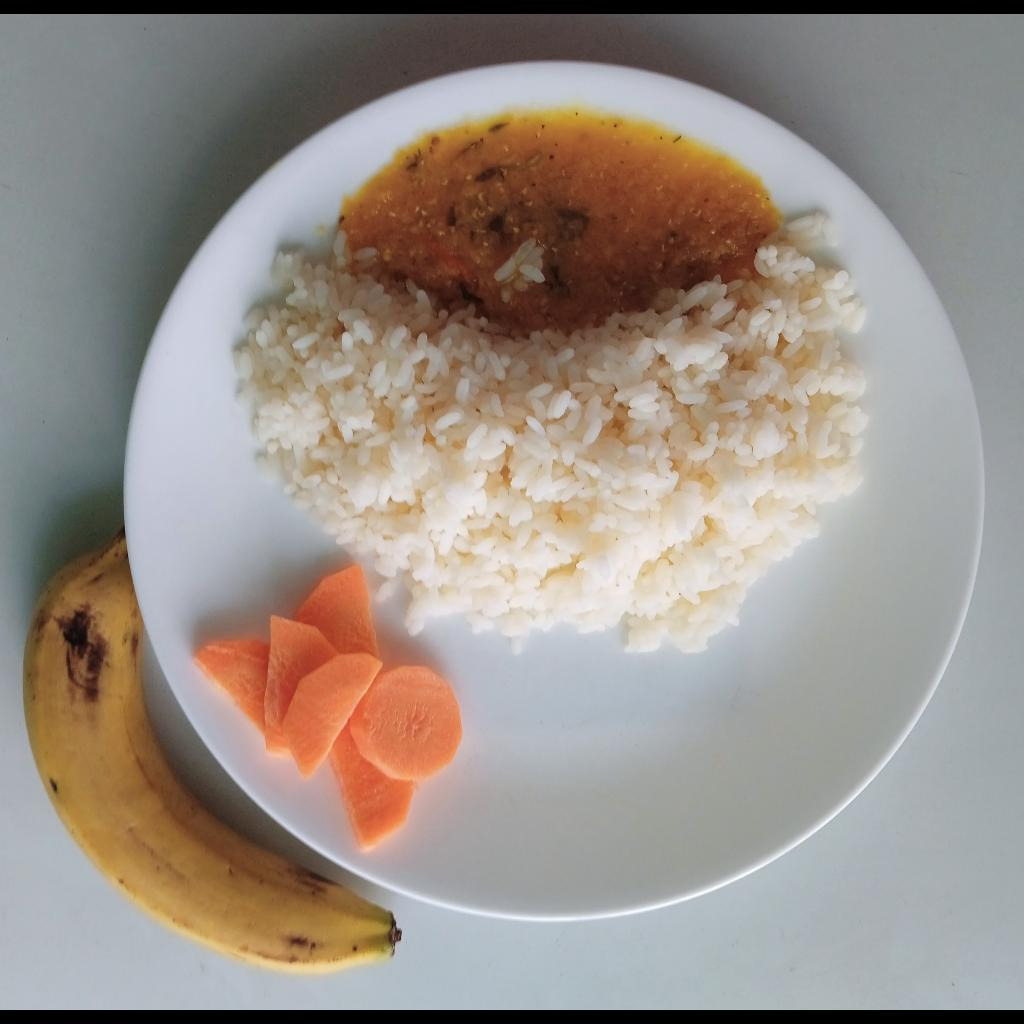banana: (23, 528, 405, 976)
carrot: (192, 564, 464, 851)
daal: (343, 119, 784, 329)
rice: (228, 209, 866, 658)
